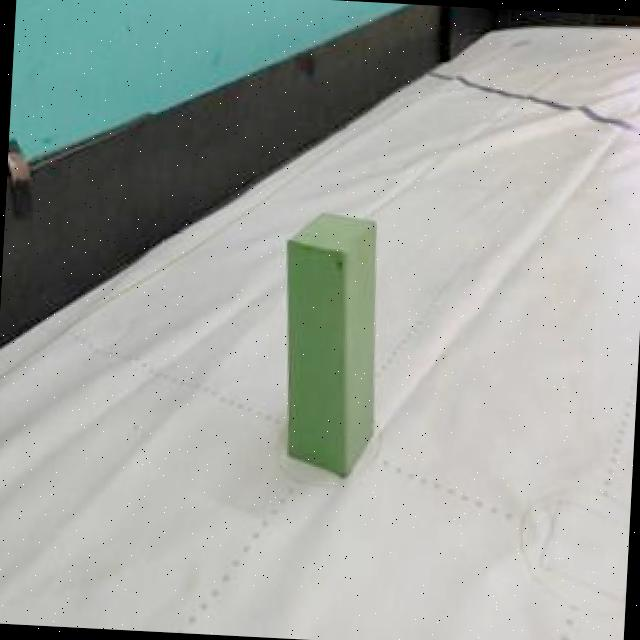greenbox: (270, 206, 386, 479)
